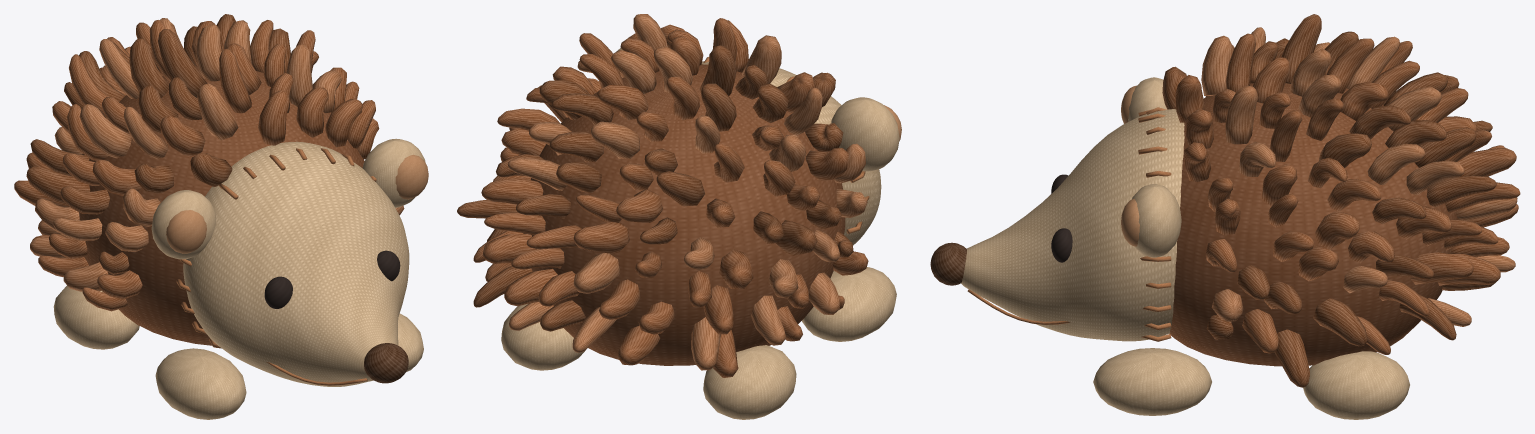
File: hedgehog-toy.glb
The picture shows the model from 3 angles, left to right: view 1: azimuth 30°, elevation 25°; view 2: azimuth 150°, elevation 25°; view 3: azimuth 270°, elevation 25°; orthographic projection. The views are drawn at different scales.
Visible parts, largest first — view 1: Stitched linen face, Curled plush wool tuft layer 2, Curled plush wool tuft layer 3, Stuffed plush back, Curled plush wool tuft layer 1, Four stuffed feet, Two soft sewn ears with contrasting lining, Knitted nose, Running stitches and embroidered smile, Pair of glossy button eyes; view 2: Curled plush wool tuft layer 2, Stuffed plush back, Curled plush wool tuft layer 3, Curled plush wool tuft layer 1, Four stuffed feet, Two soft sewn ears with contrasting lining, Stitched linen face; view 3: Curled plush wool tuft layer 2, Stuffed plush back, Stitched linen face, Curled plush wool tuft layer 1, Curled plush wool tuft layer 3, Four stuffed feet, Two soft sewn ears with contrasting lining, Running stitches and embroidered smile, Knitted nose, Pair of glossy button eyes.
Part boxes in pixels (<box>): Stitched linen face: <box>183,141,409,386</box>; Curled plush wool tuft layer 2: <box>14,20,379,311</box>; Curled plush wool tuft layer 3: <box>30,18,404,291</box>; Stuffed plush back: <box>79,65,364,345</box>; Curled plush wool tuft layer 1: <box>26,14,290,274</box>; Four stuffed feet: <box>53,285,423,419</box>; Two soft sewn ears with contrasting lining: <box>151,138,428,259</box>; Knitted nose: <box>364,343,408,383</box>; Running stitches and embroidered smile: <box>176,148,376,385</box>; Pair of glossy button eyes: <box>264,250,400,308</box>; Curled plush wool tuft layer 2: <box>473,18,868,377</box>; Stuffed plush back: <box>523,64,845,365</box>; Curled plush wool tuft layer 3: <box>486,14,867,370</box>; Curled plush wool tuft layer 1: <box>457,45,853,331</box>; Four stuffed feet: <box>501,267,896,419</box>; Two soft sewn ears with contrasting lining: <box>616,48,901,171</box>; Stitched linen face: <box>701,61,881,245</box>; Curled plush wool tuft layer 2: <box>1175,33,1520,354</box>; Stuffed plush back: <box>1169,83,1457,366</box>; Stitched linen face: <box>961,109,1184,341</box>; Curled plush wool tuft layer 1: <box>1162,14,1496,387</box>; Curled plush wool tuft layer 3: <box>1201,27,1517,326</box>; Four stuffed feet: <box>1093,348,1409,419</box>; Two soft sewn ears with contrasting lining: <box>1121,77,1181,257</box>; Running stitches and embroidered smile: <box>967,107,1171,341</box>; Knitted nose: <box>930,242,966,285</box>; Pair of glossy button eyes: <box>1051,174,1072,262</box>.
Size of the model in its own units: 0.2839 by 0.2603 by 0.4261.
Materials: 9 (9 with a texture image).
